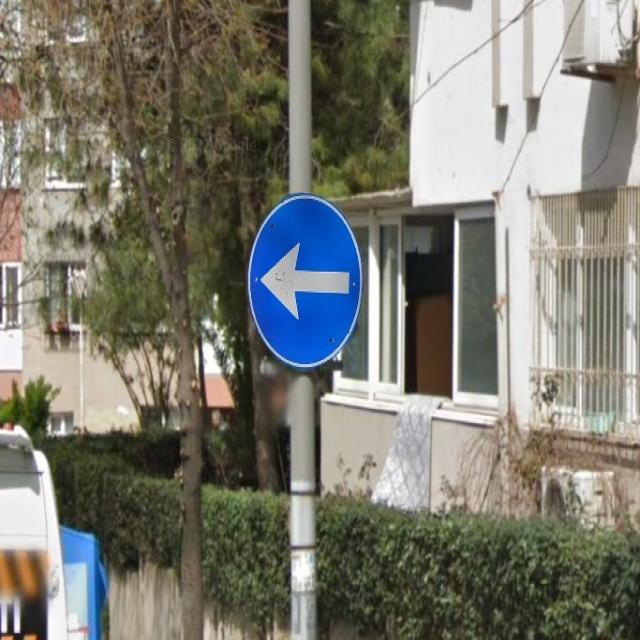Turn Left: (245, 200, 370, 365)
